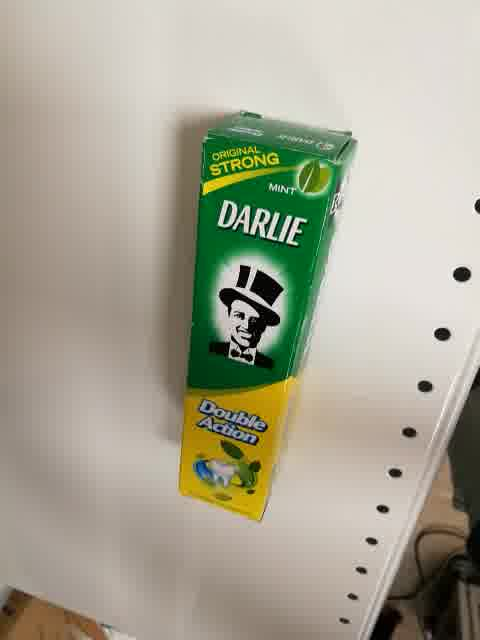toothpaste: (178, 110, 358, 525)
